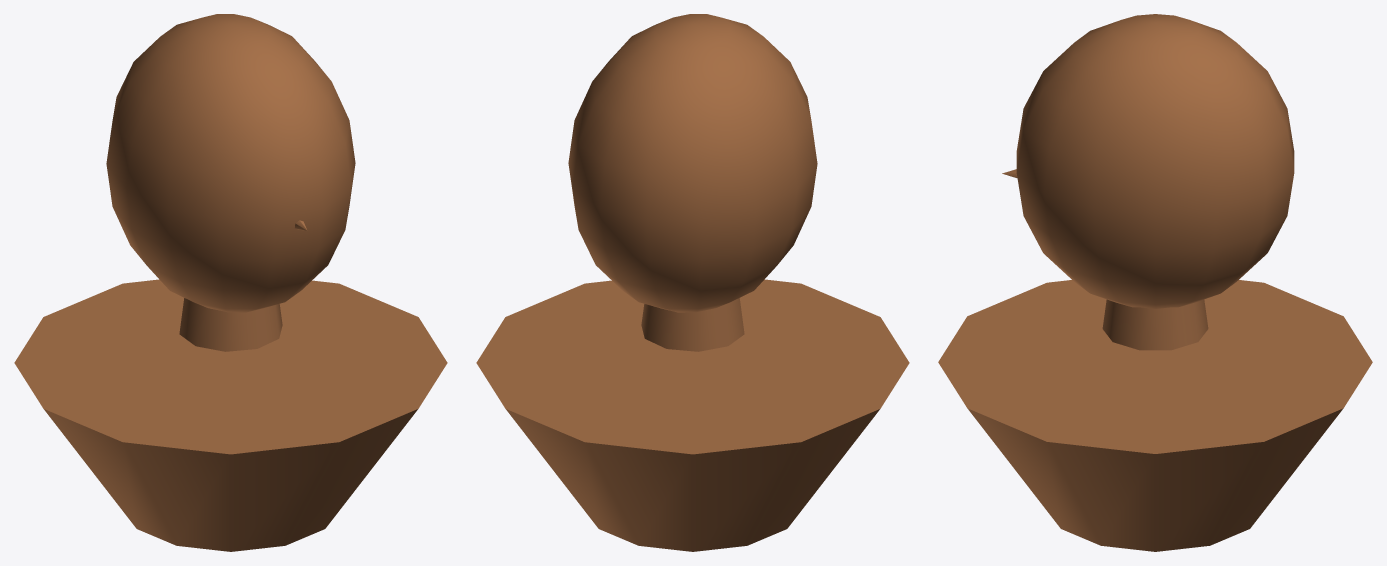
Rendered from raw_002.glb.
The picture shows the model from 3 angles, left to right: view 1: azimuth 30°, elevation 25°; view 2: azimuth 150°, elevation 25°; view 3: azimuth 270°, elevation 25°; orthographic projection.
Bounding box in the file's own units: 1.72 × 2.11 × 1.72.
